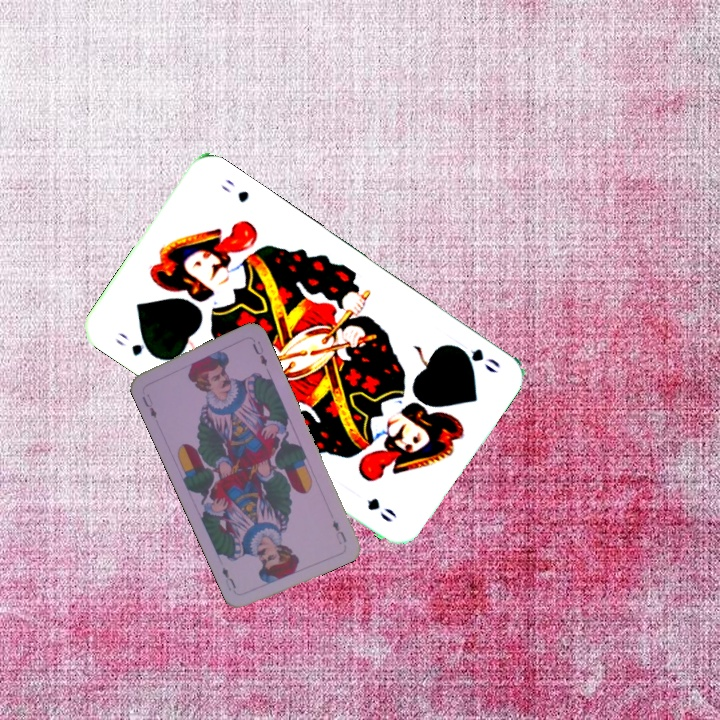EU: (138, 390, 159, 421), (328, 516, 349, 547)
GO: (447, 340, 503, 376), (111, 328, 160, 361)
